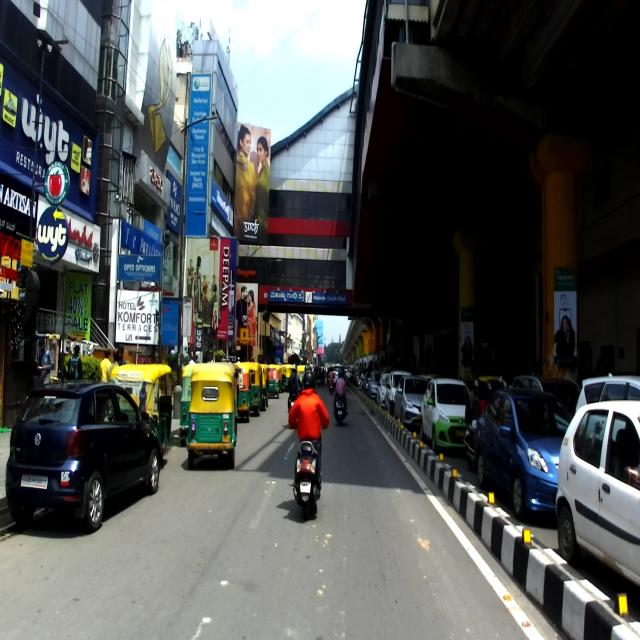autorickshaw: (110, 363, 172, 464), (185, 362, 241, 469)
car: (5, 381, 161, 530), (554, 399, 640, 585), (476, 388, 572, 519), (420, 379, 470, 448)
scooter: (288, 400, 322, 521)
